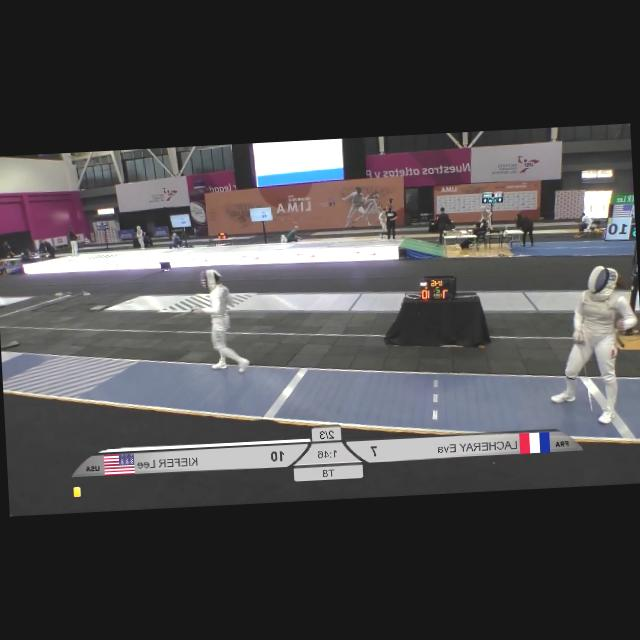blade: (574, 336, 600, 428), (165, 306, 196, 324)
